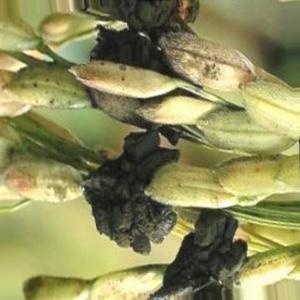Leaf_Scald: (89, 140, 173, 243), (83, 0, 184, 77), (177, 212, 239, 300)
